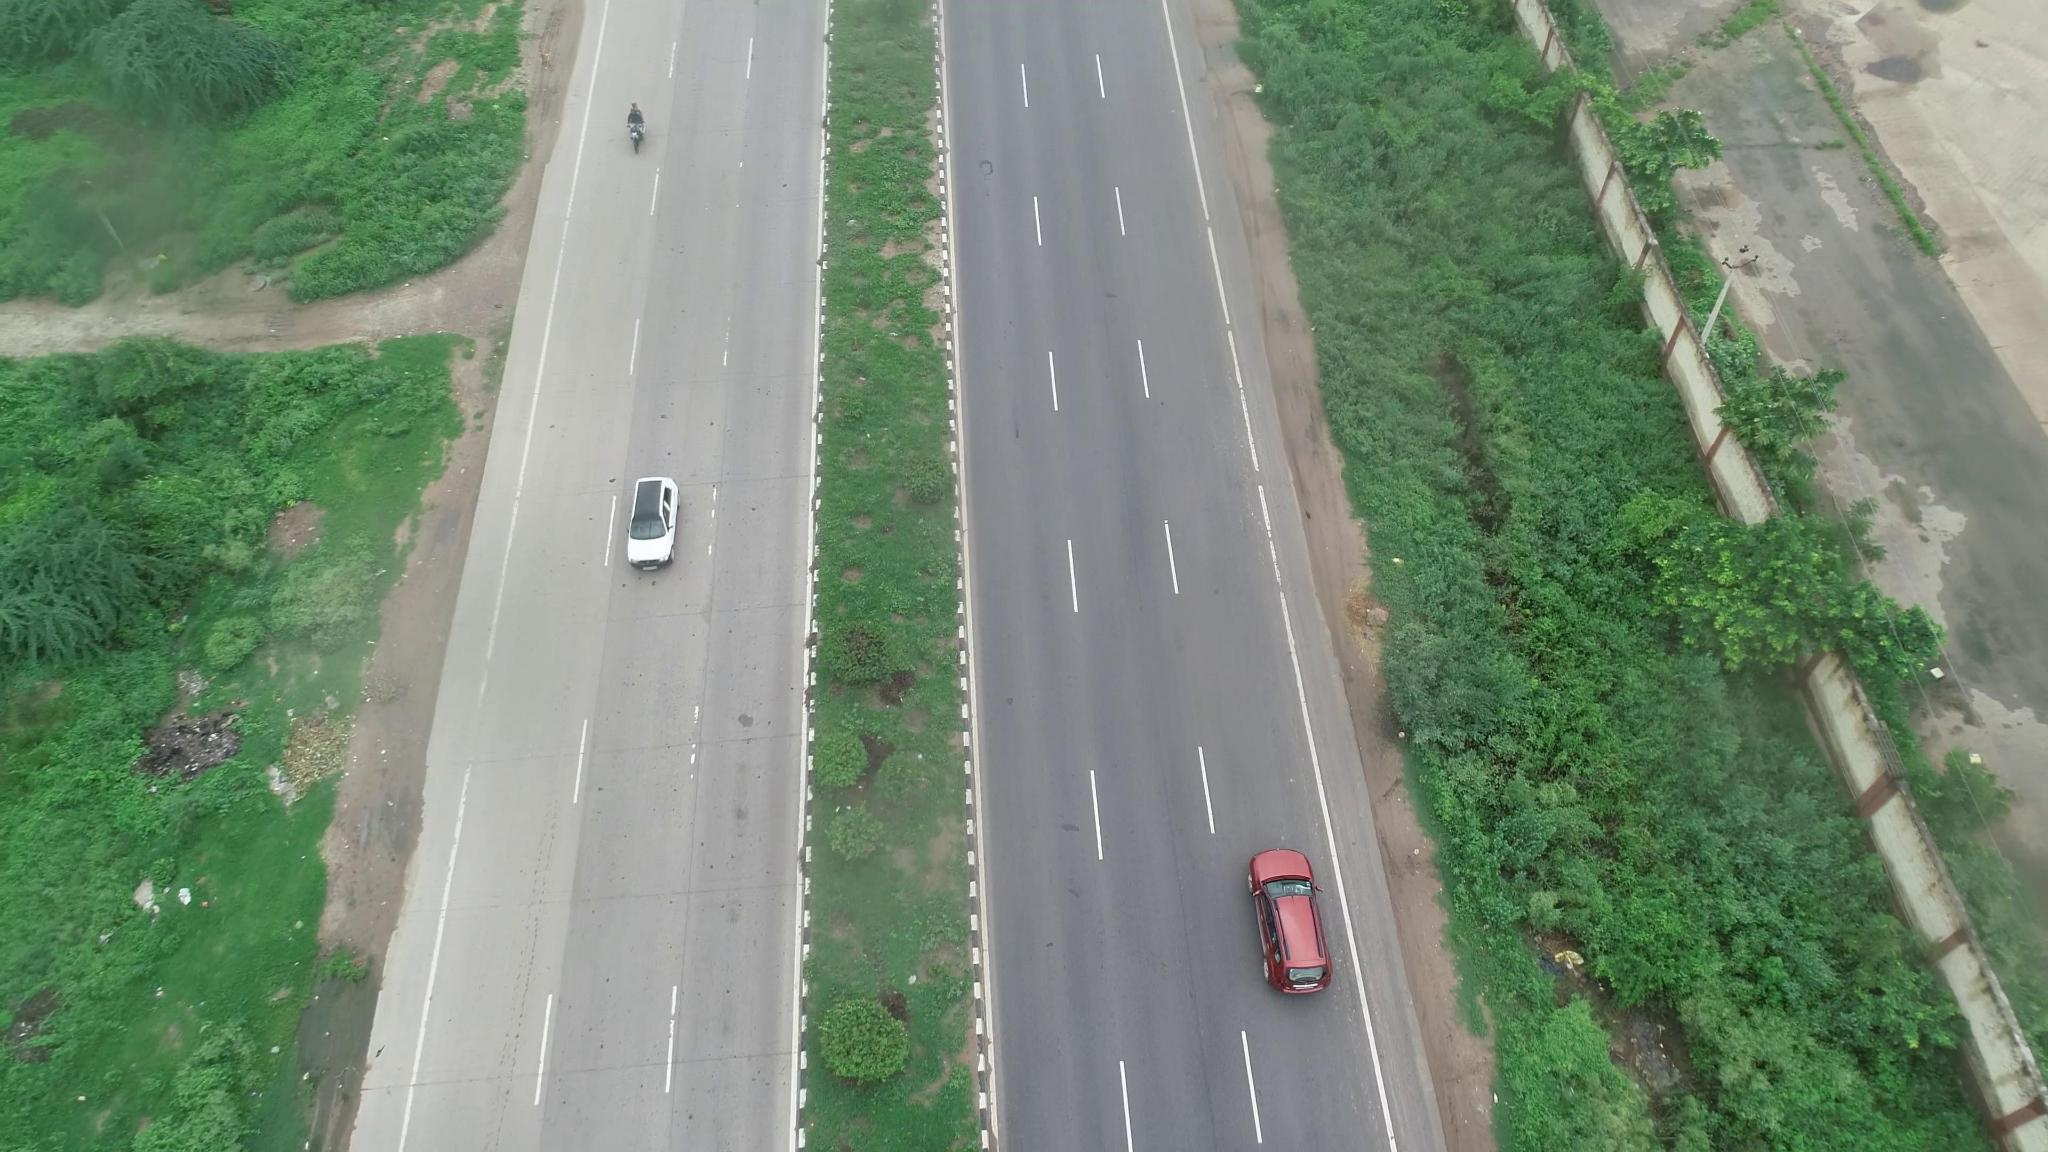Potholes: (961, 143, 1011, 203)
